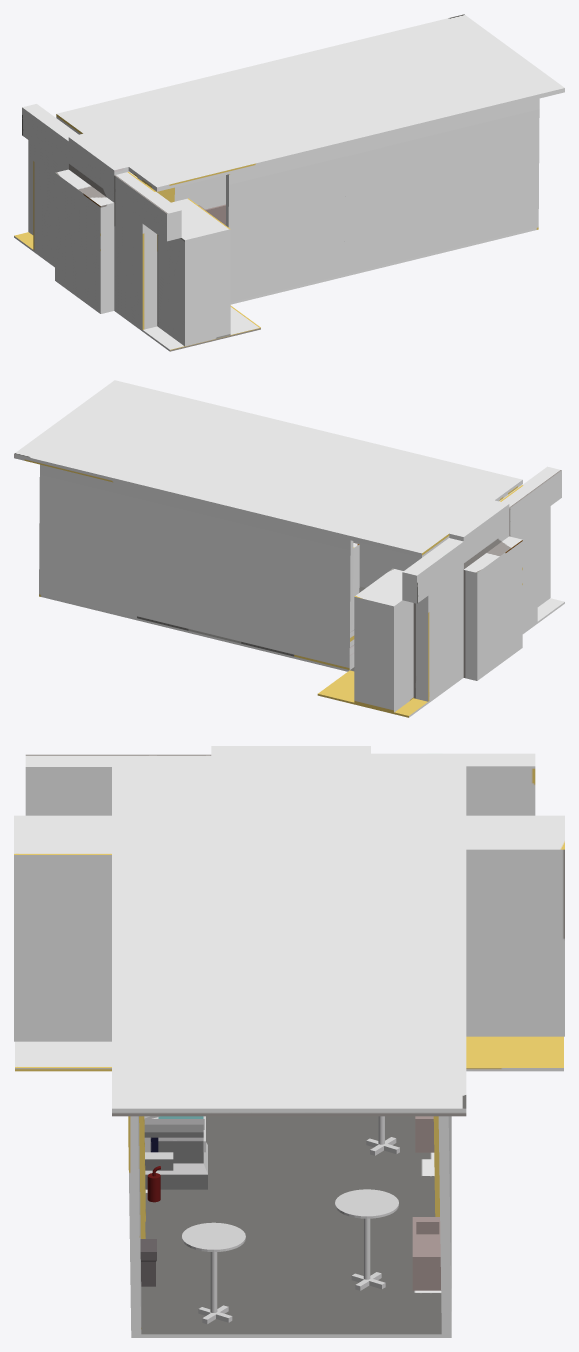
The model's file is AreaRelax.glb.
The picture shows the model from 3 angles, top to bottom: view 1: azimuth 30°, elevation 25°; view 2: azimuth 150°, elevation 25°; view 3: azimuth 270°, elevation 25°; orthographic projection. The views are drawn at different scales.
Parts seen in each view (by area): view 1: Cube; view 2: Cube; view 3: Cube, Fotocopiatrice, Tavolino, Tavolino.001, Coccia.001, Cestino.
Part boxes in pixels (left/top/right/bottom): Cube: left=14, top=14, right=564, bottom=351; Cube: left=14, top=380, right=564, bottom=717; Cube: left=14, top=746, right=564, bottom=1337; Fotocopiatrice: left=144, top=1116, right=207, bottom=1189; Tavolino: left=181, top=1222, right=245, bottom=1324; Tavolino.001: left=335, top=1189, right=398, bottom=1290; Coccia.001: left=412, top=1217, right=441, bottom=1290; Cestino: left=140, top=1239, right=156, bottom=1286.
Bounding box in the file's own units: 41.56 × 12.79 × 25.85.
Materials: 6 (6 with a texture image).
